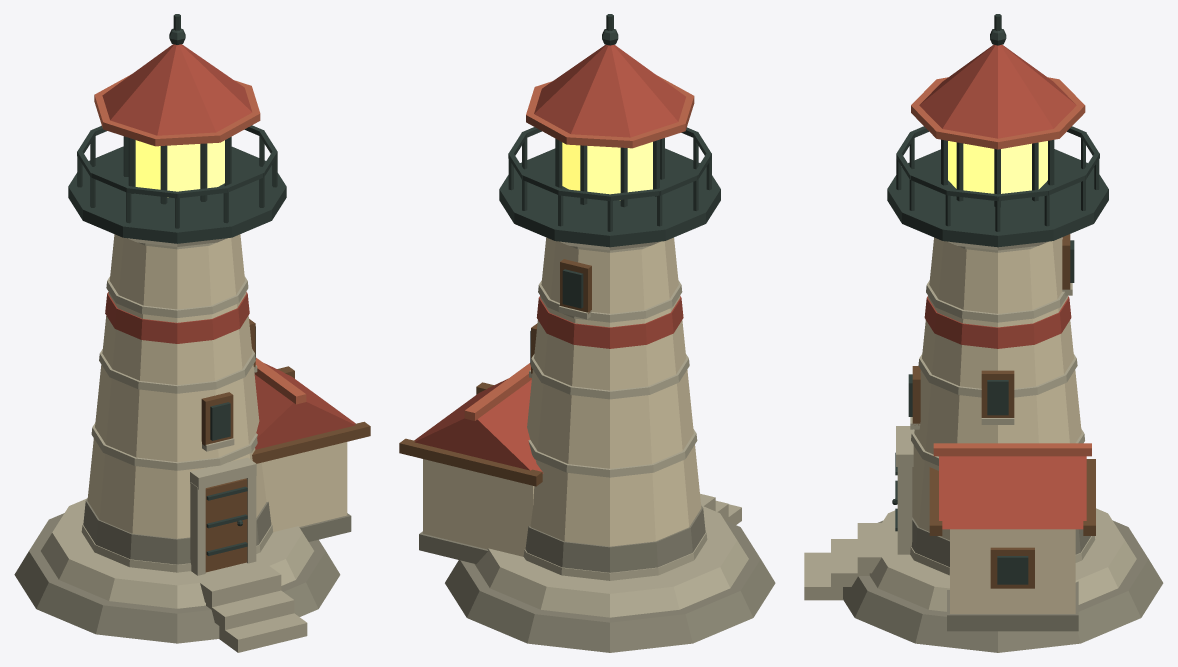
File: corepolis-lighthouse.glb
The picture shows the model from 3 angles, left to right: view 1: azimuth 30°, elevation 25°; view 2: azimuth 150°, elevation 25°; view 3: azimuth 270°, elevation 25°; orthographic projection.
Visible parts, largest first — view 1: Ivory_Plaster, Stone_Trim, Dark_Iron, Terracotta_Roof, Foundation_Stone, Warm_Oak, Amber_Lantern, Roof_Trim; view 2: Ivory_Plaster, Foundation_Stone, Stone_Trim, Terracotta_Roof, Dark_Iron, Roof_Trim, Amber_Lantern, Warm_Oak; view 3: Ivory_Plaster, Terracotta_Roof, Dark_Iron, Stone_Trim, Foundation_Stone, Roof_Trim, Warm_Oak, Amber_Lantern.
Part boxes in pixels (left/top/right/bottom): Ivory_Plaster: left=87, top=234, right=347, bottom=538; Stone_Trim: left=41, top=238, right=313, bottom=652; Dark_Iron: left=68, top=14, right=286, bottom=555; Terracotta_Roof: left=102, top=44, right=355, bottom=449; Foundation_Stone: left=14, top=498, right=351, bottom=643; Warm_Oak: left=201, top=319, right=370, bottom=572; Amber_Lantern: left=135, top=140, right=224, bottom=197; Roof_Trim: left=94, top=74, right=306, bottom=404; Ivory_Plaster: left=423, top=237, right=701, bottom=556; Foundation_Stone: left=419, top=505, right=775, bottom=652; Stone_Trim: left=474, top=241, right=748, bottom=617; Terracotta_Roof: left=414, top=44, right=685, bottom=473; Dark_Iron: left=499, top=14, right=720, bottom=364; Roof_Trim: left=464, top=75, right=694, bottom=420; Amber_Lantern: left=562, top=142, right=652, bottom=200; Warm_Oak: left=399, top=259, right=591, bottom=486; Ivory_Plaster: left=912, top=237, right=1081, bottom=613; Terracotta_Roof: left=919, top=44, right=1086, bottom=529; Dark_Iron: left=887, top=14, right=1108, bottom=584; Stone_Trim: left=804, top=241, right=1136, bottom=611; Foundation_Stone: left=843, top=517, right=1163, bottom=652; Roof_Trim: left=911, top=77, right=1091, bottom=456; Warm_Oak: left=912, top=234, right=1095, bottom=588; Amber_Lantern: left=948, top=141, right=1047, bottom=193.
Bounding box in the file's own units: 2.03 × 3.6 × 2.07.
